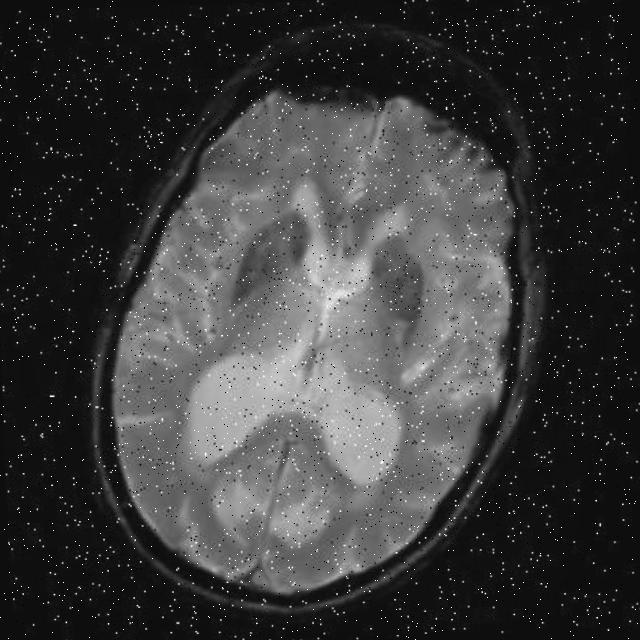LMCI: (226, 208, 314, 300), (366, 248, 456, 326)
